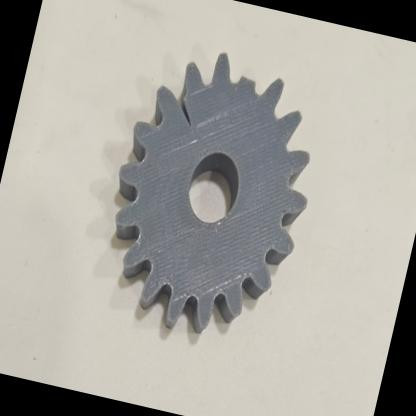defect: (214, 34, 289, 132), (135, 60, 207, 148)
gear: (59, 0, 364, 369)
